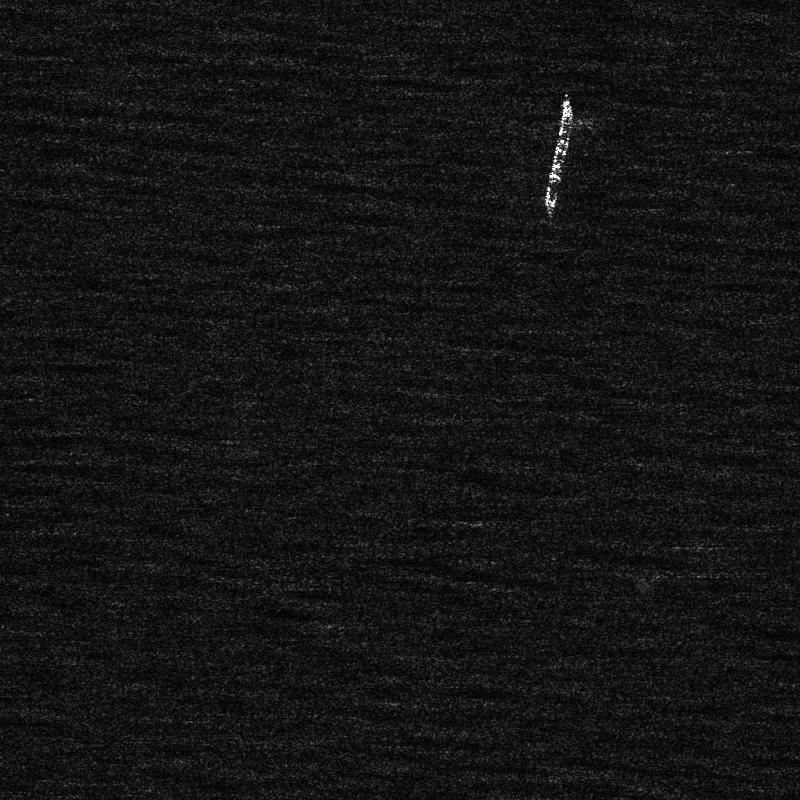ship: (543, 99, 573, 214)
